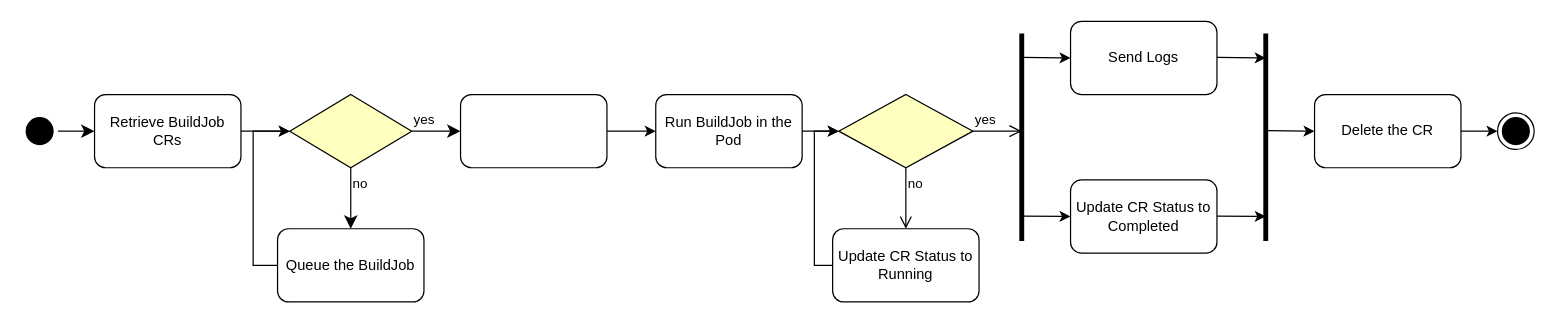
Some shapes in this 1556 by 323 pixel diagram are drawn without their labels. Here are the shapes that lost their labels. From the top down, the box of each, then its label:
(289, 93, 412, 168): Resource free?
(459, 93, 607, 168): Create Kubernetes Job and Pod
(838, 93, 973, 168): BuildJob finished?
